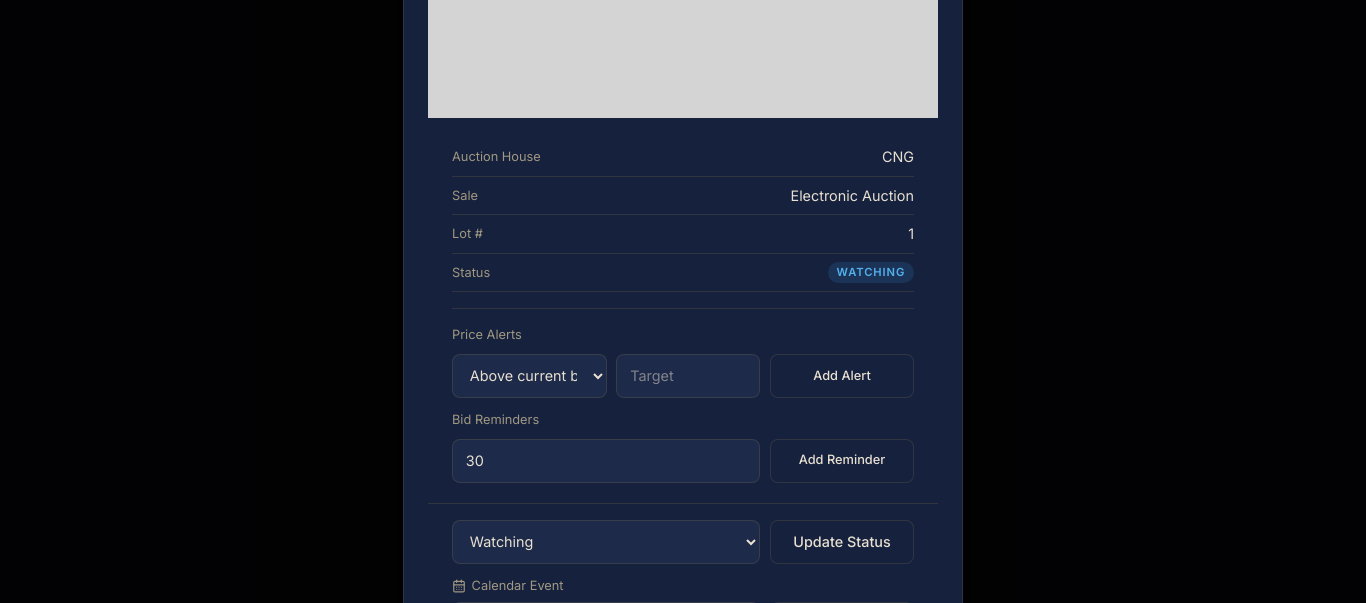
Test case: AuctionLotDetailModal › surfaces an error instead of failing silently when a status update is rejected
(page scrolled)
Select "Won" in the 2nd dropdown at x=606, y=542, box [452, 520, 760, 564]
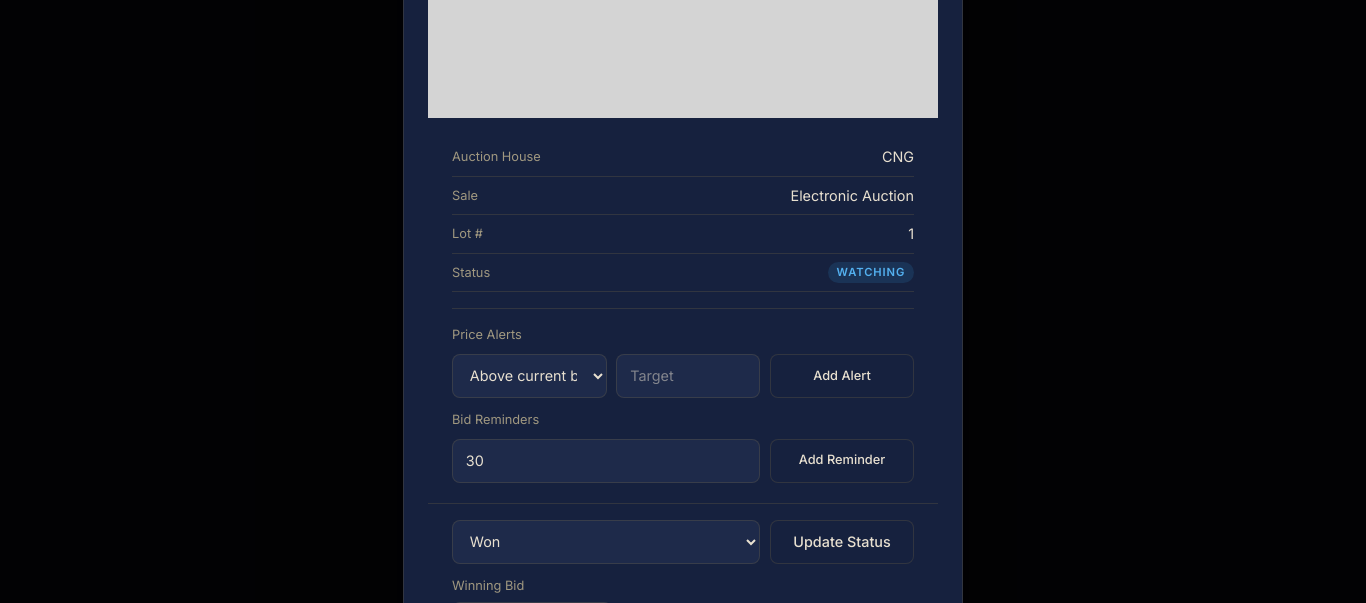
Click the button "Update Status" at x=842, y=542, box [770, 520, 914, 564]
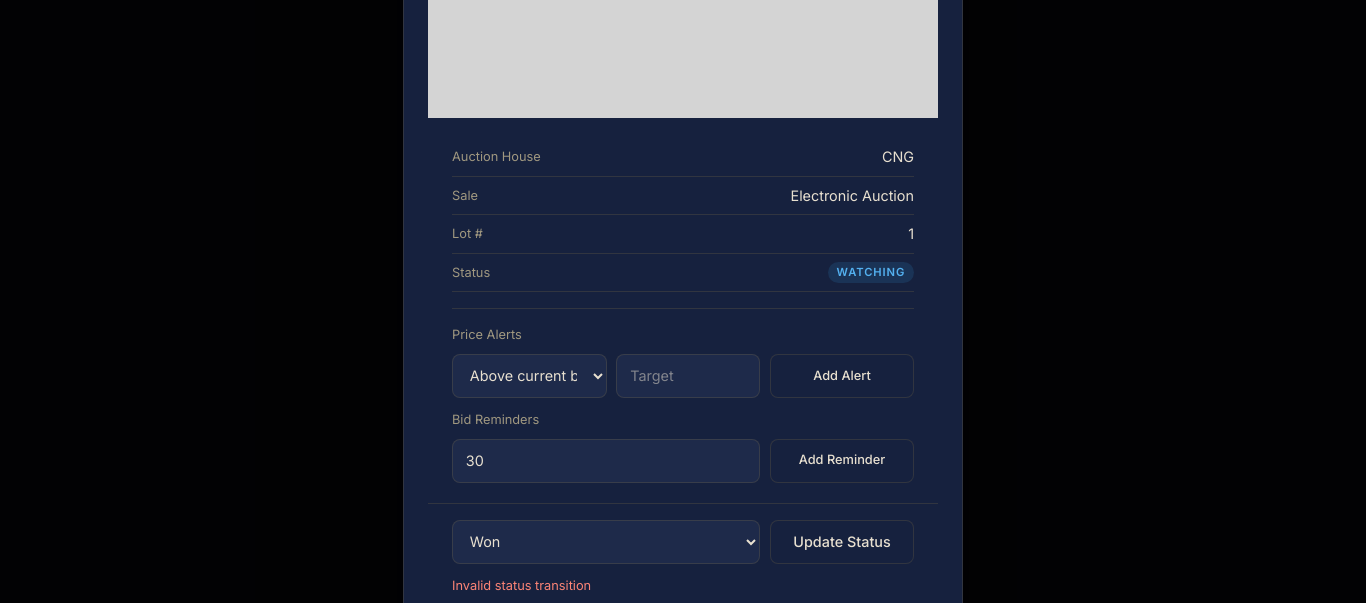
Result: the text "Invalid status transition" is shown at [452, 578, 591, 593]
